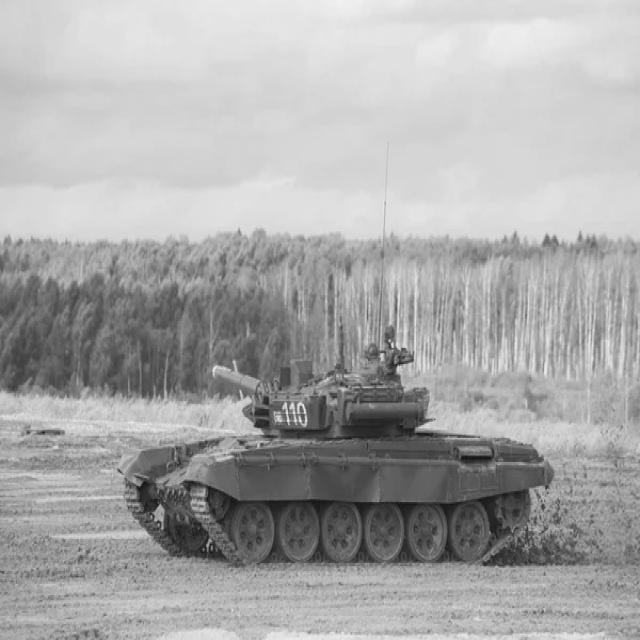Tank: (119, 329, 560, 572)
